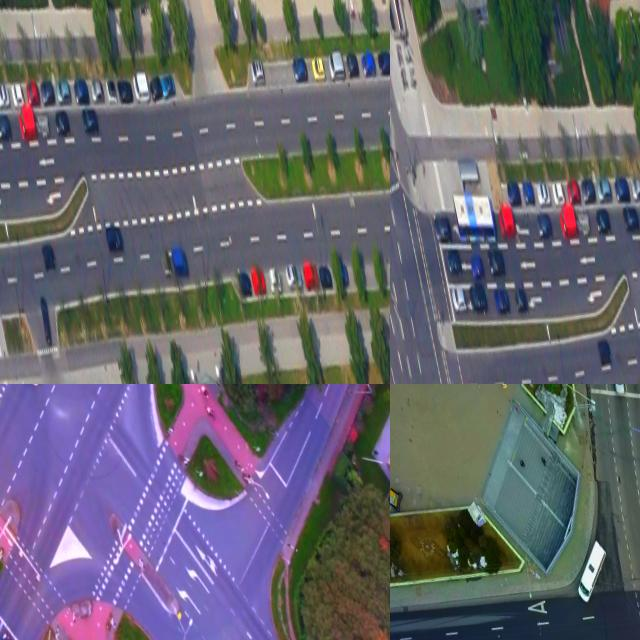UAI: (38, 295, 55, 347), (558, 205, 579, 239), (18, 107, 38, 142), (468, 281, 488, 316), (497, 204, 517, 239), (131, 70, 151, 104), (327, 50, 346, 82), (433, 213, 452, 245), (535, 210, 554, 241), (105, 225, 125, 254), (486, 248, 506, 277), (446, 246, 464, 278), (170, 248, 189, 277), (80, 107, 99, 136), (284, 262, 303, 291), (621, 205, 640, 234), (72, 77, 90, 106), (493, 287, 511, 316), (53, 110, 71, 138), (302, 262, 320, 290), (291, 56, 309, 84), (594, 207, 612, 235), (613, 175, 630, 204), (266, 264, 282, 294), (116, 78, 134, 104), (25, 79, 41, 108), (360, 52, 377, 79), (249, 58, 266, 85), (55, 79, 72, 106), (39, 80, 56, 107), (451, 285, 468, 312), (580, 178, 597, 205), (160, 73, 177, 99), (237, 270, 253, 297), (318, 264, 334, 291), (310, 54, 326, 81), (41, 243, 57, 270), (470, 254, 486, 281), (513, 287, 529, 314), (566, 178, 582, 205), (535, 179, 551, 206), (506, 180, 522, 207), (521, 179, 536, 207), (251, 268, 267, 294), (596, 176, 612, 202), (149, 75, 164, 102), (551, 180, 566, 207), (345, 53, 360, 79), (89, 77, 104, 103), (597, 339, 612, 365), (36, 113, 50, 140), (376, 49, 390, 76), (0, 113, 13, 142), (11, 83, 25, 108), (577, 213, 591, 237), (105, 77, 117, 103), (607, 384, 630, 397), (161, 253, 173, 277), (0, 81, 10, 108), (630, 176, 640, 202)
car: (451, 186, 498, 250)
harvester: (568, 537, 617, 608)
